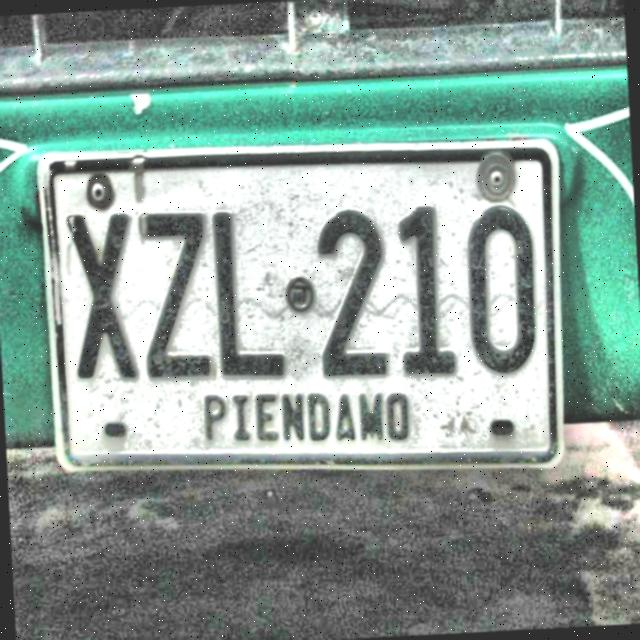plate: (45, 154, 554, 464)
